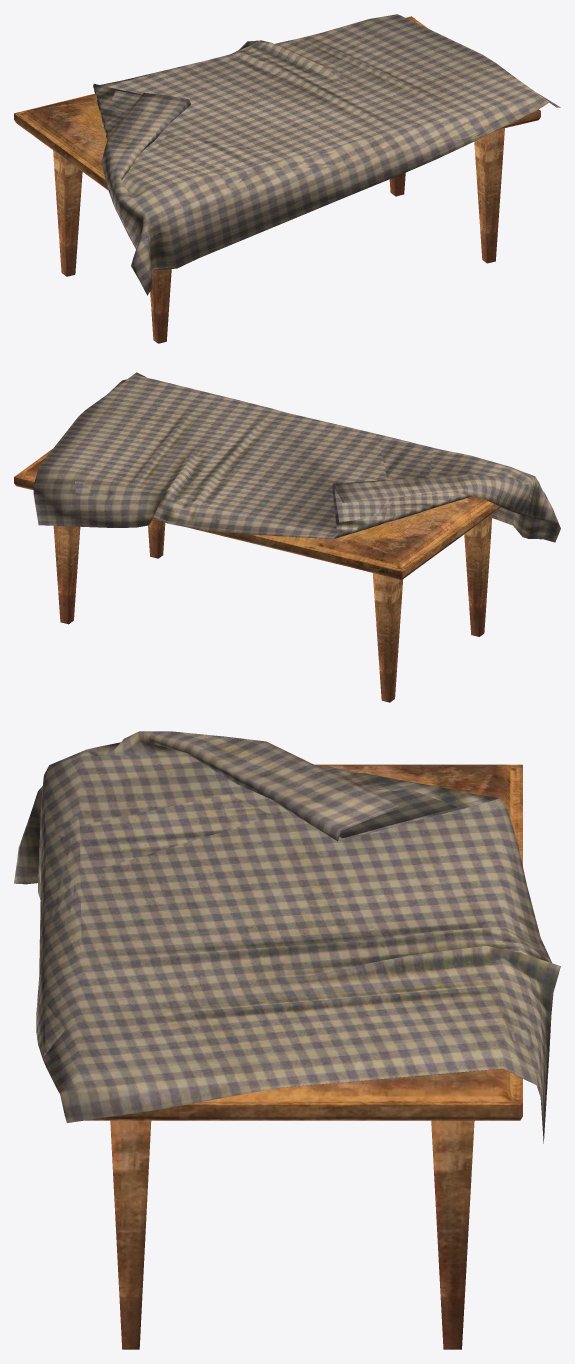
Rendered from dining_table.glb.
3 renders of one model, top to bottom at view 1: azimuth 30°, elevation 25°; view 2: azimuth 150°, elevation 25°; view 3: azimuth 270°, elevation 25°, orthographic. The views are drawn at different scales.
Parts seen in each view (by area): view 1: dining_table; view 2: dining_table; view 3: dining_table.
Boxes of the visible parts, x1=… form: dining_table: x1=14, y1=14, x2=560, y2=343; dining_table: x1=14, y1=372, x2=560, y2=702; dining_table: x1=14, y1=731, x2=560, y2=1349.
Bounding box in the file's own units: 2.26 × 0.877 × 1.39.
1 material, 1 textured.
